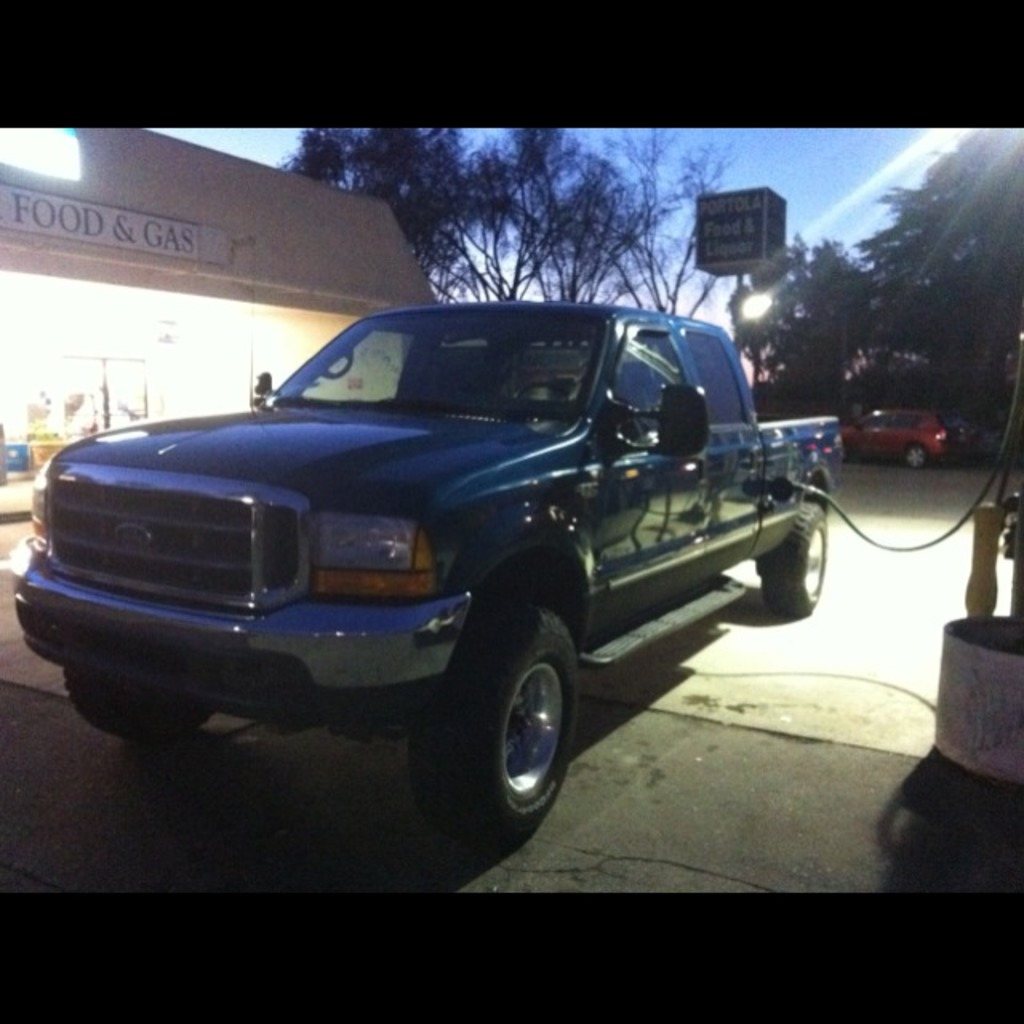Car: (838, 408, 948, 466)
